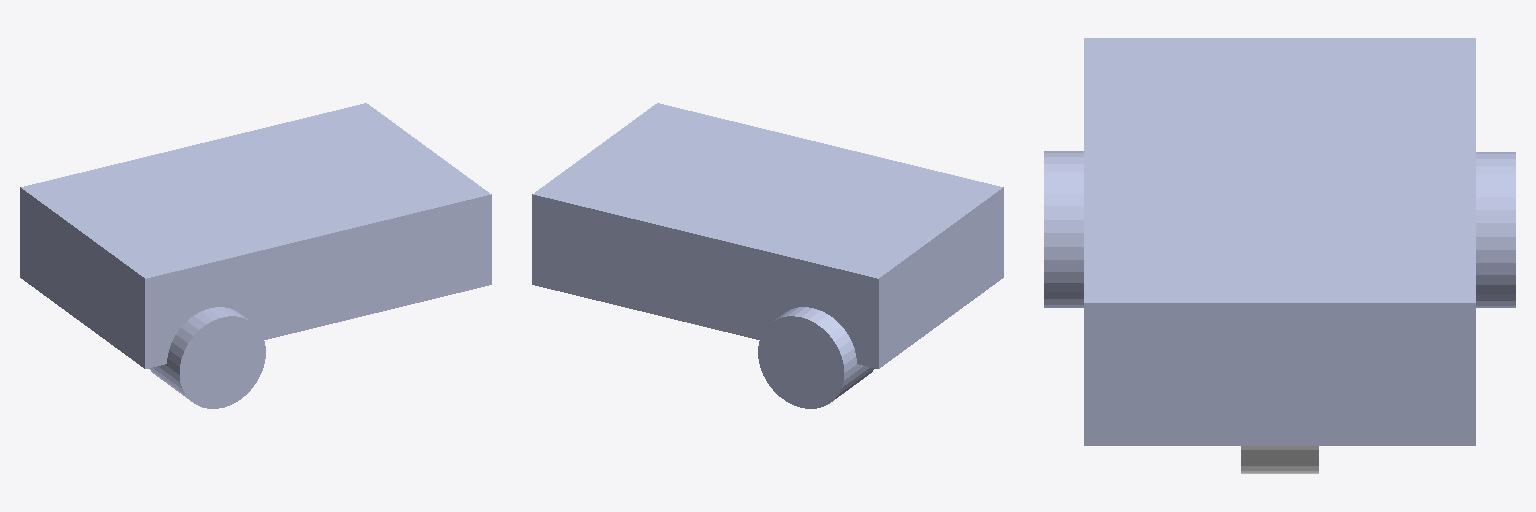
The robot description file, URDF, robot "two_diff_car":
<?xml version="1.0" encoding="utf-8"?>
<!-- This URDF was automatically created by SolidWorks to URDF Exporter! Originally created by [author] ([email redacted]) 
     Commit Version: 1.6.0-4-g7f85cfe  Build Version: 1.6.7995.38578
     For more information, please see http://wiki.ros.org/sw_urdf_exporter -->
<robot
  name="two_diff_car">
  <!-- base_link 底盘-->
  <link
    name="base_link">
    <inertial>
      <origin
        xyz="-0.00061402 0.010592 7.3579E-19"
        rpy="0 0 0" />
      <mass
        value="0.07195" />
      <inertia
        ixx="1.7544E-05"
        ixy="-1.877E-07"
        ixz="-5.8483E-21"
        iyy="5.253E-05"
        iyz="5.6668E-23"
        izz="3.969E-05" />
    </inertial>
    <visual>
      <material name="blue">
          <color rgba="0 0.5 1 1"/>
      </material>
      <origin
        xyz="0 0 0"
        rpy="0 0 0" />
      <geometry>
        <mesh
          filename="package://two_diff_car/meshes/base_link.STL" />
      </geometry>
      <material
        name="">
        <color
          rgba="0.79216 0.81961 0.93333 1" />
      </material>
    </visual>
    <collision>
      <origin
        xyz="0 0 0"
        rpy="0 0 0" />
      <geometry>
        <mesh
          filename="package://two_diff_car/meshes/base_link.STL" />
      </geometry>
    </collision>
  </link>

  <!-- left_link 左轮-->
  <link
    name="left_Link">
    <inertial>
      <origin
        xyz="0.0075 0 3.4694E-18"
        rpy="0 0 0" />
      <mass
        value="0.0047124" />
      <inertia
        ixx="2.3562E-07"
        ixy="-6.8299E-40"
        ixz="1.1479E-39"
        iyy="2.0617E-07"
        iyz="0"
        izz="2.0617E-07" />
    </inertial>
    <visual>
      <material name="black">
        <color rgba="0.0 0.0 0.0 1.0" />
      </material>
      <origin
        xyz="0 0 0"
        rpy="0 0 0" />
      <geometry>
        <mesh
          filename="package://two_diff_car/meshes/left_Link.STL" />
      </geometry>
      <material
        name="">
        <color
          rgba="0.79216 0.81961 0.93333 1" />
      </material>
    </visual>
    <collision>
      <origin
        xyz="0 0 0"
        rpy="0 0 0" />
      <geometry>
        <mesh
          filename="package://two_diff_car/meshes/left_Link.STL" />
      </geometry>
    </collision>
  </link>
  <joint
    name="left_Joint"
    type="continuous">
    <origin
      xyz="-0.025 0.015 0"
      rpy="1.5708 0 1.5708" />
    <parent
      link="base_link" />
    <child
      link="left_Link" />
    <axis
      xyz="1 0 0" />
  </joint>
  
  <!-- right_Link 右轮-->  
  <link
    name="right_Link">
    <inertial>
      <origin
        xyz="0.0075 0 0"
        rpy="0 0 0" />
      <mass
        value="0.0047124" />
      <inertia
        ixx="2.3562E-07"
        ixy="1.0066E-24"
        ixz="-6.7464E-24"
        iyy="2.0617E-07"
        iyz="-6.6174E-24"
        izz="2.0617E-07" />
    </inertial>
    <visual>
      <material name="black">
        <color rgba="0.0 0.0 0.0 1.0" />
      </material>    
      <origin
        xyz="0 0 0"
        rpy="0 0 0" />
      <geometry>
        <mesh
          filename="package://two_diff_car/meshes/right_Link.STL" />
      </geometry>
      <material
        name="">
        <color
          rgba="0.79216 0.81961 0.93333 1" />
      </material>
    </visual>
    <collision>
      <origin
        xyz="0 0 0"
        rpy="0 0 0" />
      <geometry>
        <mesh
          filename="package://two_diff_car/meshes/right_Link.STL" />
      </geometry>
    </collision>
  </link>
  <joint
    name="right_Joint"
    type="continuous">
    <origin
      xyz="-0.025 -0.015 0"
      rpy="-1.9639 0 -1.5708" />
    <parent
      link="base_link" />
    <child
      link="right_Link" />
    <axis
      xyz="1 0 0" />
  </joint>
<!-- f
  <transmission name="left_Joint_trans">
    <type>transmission_interface/SimpleTransmission</type>
    <joint name="left_Joint">
      <hardwareInterface>VelocityJointInterface</hardwareInterface>
    </joint>
    <actuator name="left_Joint_motor">
      <hardwareInterface>VelocityJointInterface</hardwareInterface>
      <mechanicalReduction>1</mechanicalReduction>
    </actuator>
  </transmission>

  <transmission name="right_Joint_trans">
    <type>transmission_interface/SimpleTransmission</type>
    <joint name="right_Joint">
      <hardwareInterface>VelocityJointInterface</hardwareInterface>
    </joint>
    <actuator name="right_Joint_motor">
      <hardwareInterface>VelocityJointInterface</hardwareInterface>
      <mechanicalReduction>1</mechanicalReduction>
    </actuator>
  </transmission>
  -->
  <!-- forward_Link_1 万向轮_1-->
  <link
    name="forward_Link_1">
    <inertial>
      <origin
        xyz="2.0723E-11 -0.0026657 7.1151E-20"
        rpy="0 0 0" />
      <mass
        value="0.00035103" />
      <inertia
        ixx="6.1616E-09"
        ixy="1.5732E-16"
        ixz="-4.3864E-15"
        iyy="2.4351E-09"
        iyz="-1.1002E-24"
        izz="4.8495E-09" />
    </inertial>
    <visual>
      <material name="yellow">
         <color rgba="0.5 0.3 0.0 0.5" />
      </material>    
      <origin
        xyz="0 0 0"
        rpy="0 0 0" />
      <geometry>
        <mesh
          filename="package://two_diff_car/meshes/forward_Link_1.STL" />
      </geometry>
      <material
        name="">
        <color
          rgba="1 1 1 1" />
      </material>
    </visual>
    <collision>
      <origin
        xyz="0 0 0"
        rpy="0 0 0" />
      <geometry>
        <mesh
          filename="package://two_diff_car/meshes/forward_Link_1.STL" />
      </geometry>
    </collision>
  </link>
  <joint
    name="forward_Joint_1"
    type="continuous">
    <origin
      xyz="0.025 0 0"
      rpy="-1.5708 0 0.00039905" />
    <parent
      link="base_link" />
    <child
      link="forward_Link_1" />
    <axis
      xyz="0 1 0" />
  </joint>

  <!-- forward_Link_2 万向轮_2-->
  <link
    name="forward_Link_2">
    <inertial>
      <origin
        xyz="1.6535E-09 -0.00032964 -4.8663E-09"
        rpy="0 0 0" />
      <mass
        value="0.0027921" />
      <inertia
        ixx="1.4959E-07"
        ixy="1.1563E-13"
        ixz="-3.844E-14"
        iyy="1.0229E-07"
        iyz="4.1601E-13"
        izz="9.5915E-08" />
    </inertial>
    <visual>
      <material name="black">
        <color rgba="0.0 0.0 0.0 1.0" />
      </material>    
      <origin
        xyz="0 0 0"
        rpy="0 0 0" />
      <geometry>
        <mesh
          filename="package://two_diff_car/meshes/forward_Link_2.STL" />
      </geometry>
      <material
        name="">
        <color
          rgba="1 1 1 1" />
      </material>
    </visual>
    <collision>
      <origin
        xyz="0 0 0"
        rpy="0 0 0" />
      <geometry>
        <mesh
          filename="package://two_diff_car/meshes/forward_Link_2.STL" />
      </geometry>
    </collision>
  </link>
  <joint
    name="forward_Joint_2"
    type="fixed">
    <origin
      xyz="0 0 0"
      rpy="3.1416 1.5708 0" />
    <parent
      link="forward_Link_1" />
    <child
      link="forward_Link_2" />
    <axis
      xyz="1 0 0" />
  </joint>

<!-- GAZEBO PLUGINS FOR DIFF DRIVE -->
<gazebo>
  <plugin name="diff_drive_controller" filename="libgazebo_ros_diff_drive.so">
    <ros>
      <namespace>/</namespace>uu
      <remapping>cmd_vel:=/cmd_vel</remapping>
      <remapping>odom:=/odom</remapping>
    </ros>
    <robotNamespace>/</robotNamespace>
    <leftJoint>left_Joint</leftJoint>
    <rightJoint>right_Joint</rightJoint>
    <wheelSeparation>0.03</wheelSeparation> <!-- left/right wheel y 距离的一半 + 一半 -->
    <wheelDiameter>0.05</wheelDiameter> <!-- 估算轮子直径 -->
    <torque>5.0</torque>
    <commandTopic>/cmd_vel</commandTopic>
    <odometryTopic>/odom</odometryTopic>
    <odometryFrame>odom</odometryFrame>
    <robotBaseFrame>base_link</robotBaseFrame>
    <publishTf>true</publishTf>
    <legacyMode>false</legacyMode>
    <updateRate>50</updateRate>
  </plugin>
</gazebo>

</robot>

--- What the picture shows (computed from the rendered views, not written in the file) ---
The picture shows the robot from 3 angles, left to right: view 1: azimuth 30°, elevation 25°; view 2: azimuth 150°, elevation 25°; view 3: azimuth 270°, elevation 25°; orthographic projection.
Robot: two_diff_car — 5 links, 4 joints (3 continuous, 1 fixed); root link base_link; default pose: every joint at zero.
Links seen in each view (by area): view 1: base_link, right_Link; view 2: base_link, left_Link; view 3: base_link, right_Link, left_Link, forward_Link_2.
Link boxes in pixels (x1,y1,x2,y2): base_link: [20, 103, 491, 368]; right_Link: [149, 307, 265, 408]; base_link: [532, 103, 1003, 368]; left_Link: [758, 307, 874, 408]; base_link: [1084, 38, 1475, 445]; right_Link: [1044, 151, 1083, 307]; left_Link: [1476, 152, 1515, 307]; forward_Link_2: [1241, 446, 1318, 473].
Size in the robot's own frame: 0.08 by 0.06 by 0.03 metres.
Meshes: 5 distinct files referenced, 5 mesh visuals loaded (5 binary STL).
